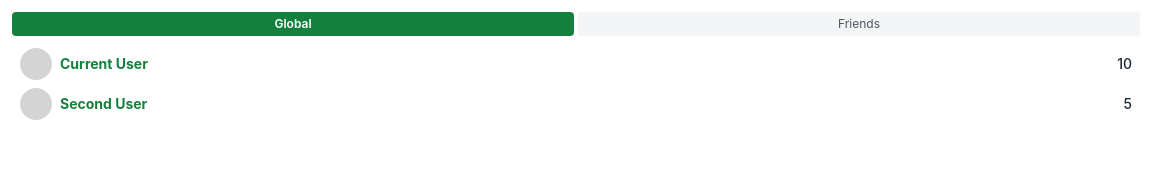
Scenario: CompactLeaderboard Integration - Real-time updates › should handle friends leaderboard updates after pomodoro creation
Switch to friends tab
Click the button "Friends" at (859, 24), box 578,12 -> 1140,36
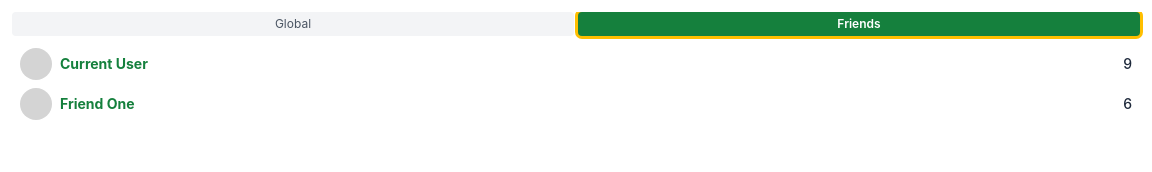
Result: the text "Friend One" is shown at 60,94 -> 134,114
Result: the text "6" is shown at 1123,94 -> 1132,114
